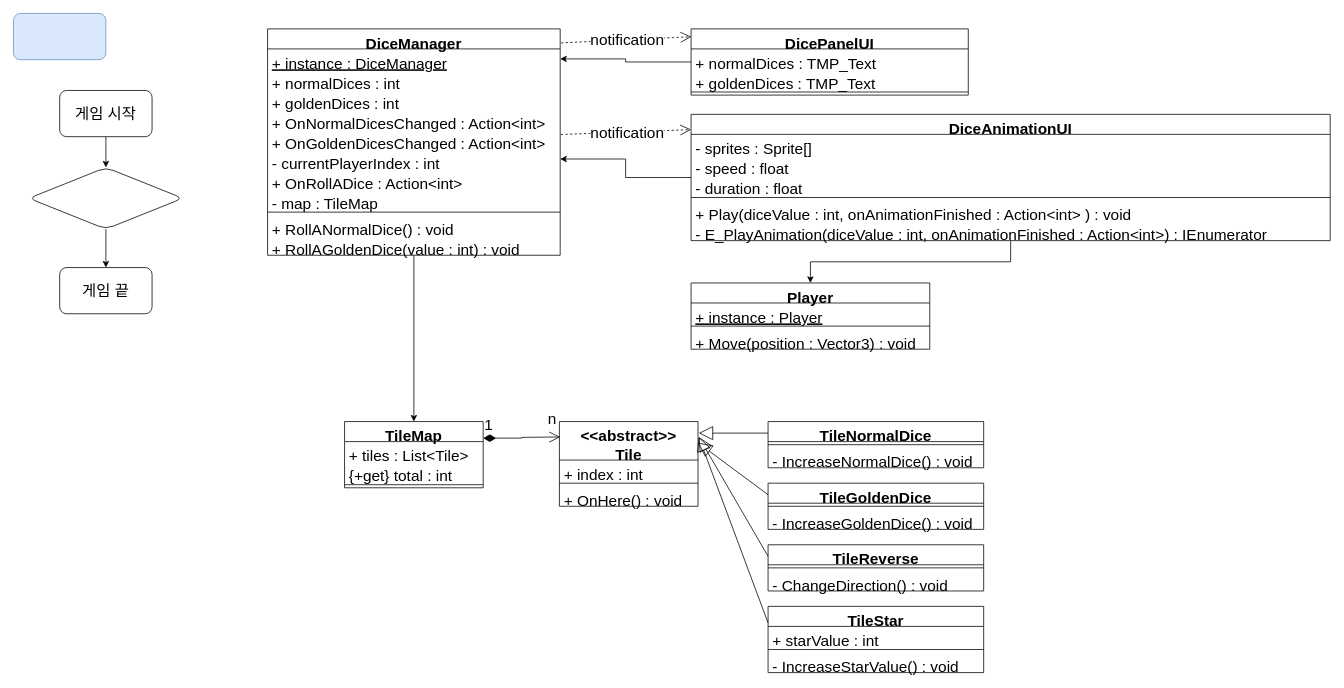
The diagram is 1344 pixels wide and 688 high, and some of its shapes have lost their labels. The centre of each missing label's shape, as x and y in pixels:
System Flow: point 59,36
주사위가 남았는가?: point 105,198
